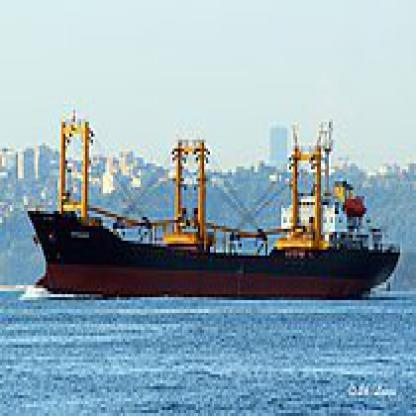Container Ship: (25, 108, 401, 299)
